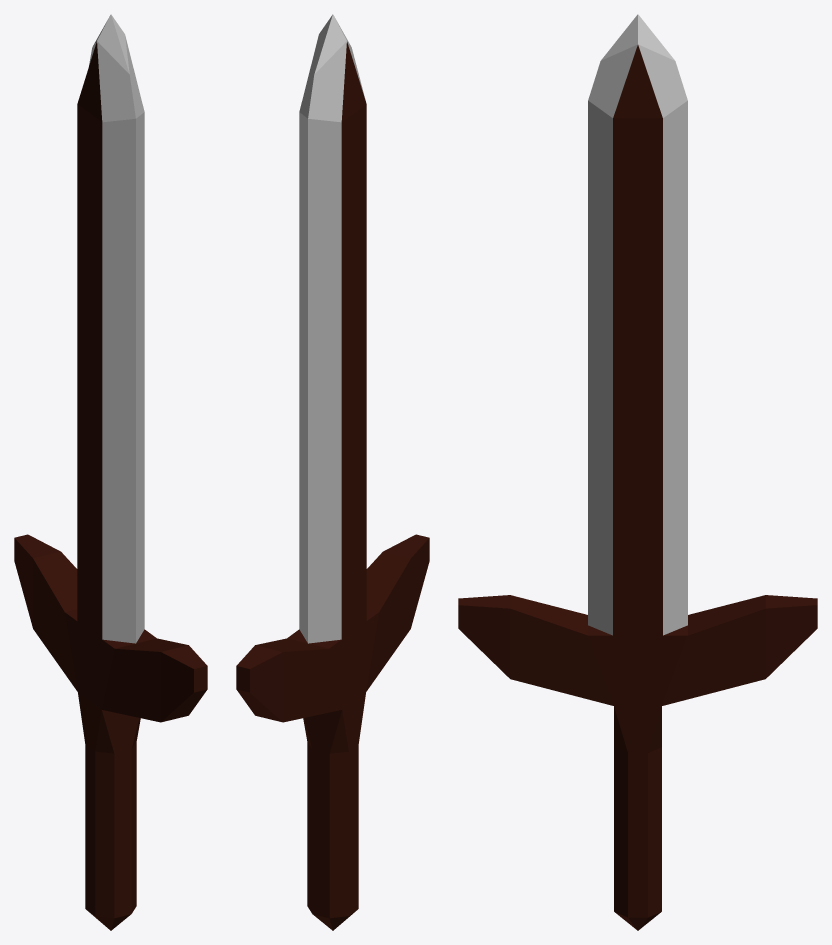
File: npcmovingpath.obj
3 views of the same model, side by side, from view 1: azimuth 30°, elevation 25°; view 2: azimuth 150°, elevation 25°; view 3: azimuth 270°, elevation 25° (orthographic).
Visible parts, largest first — view 1: lever, tip; view 2: lever, tip; view 3: lever, tip.
Part boxes in pixels (x1,y1,x2,y2): lever: (14, 41, 207, 930); tip: (89, 14, 144, 643); lever: (236, 42, 429, 930); tip: (299, 14, 365, 643); lever: (458, 45, 817, 930); tip: (588, 14, 687, 635).
Bounding box in the file's own units: 0.0589 × 1.22 × 0.4327.
